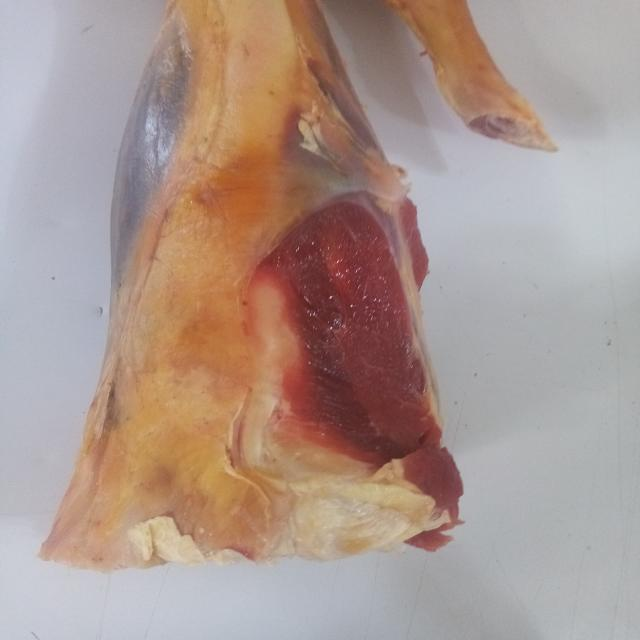beef: (66, 0, 529, 595)
